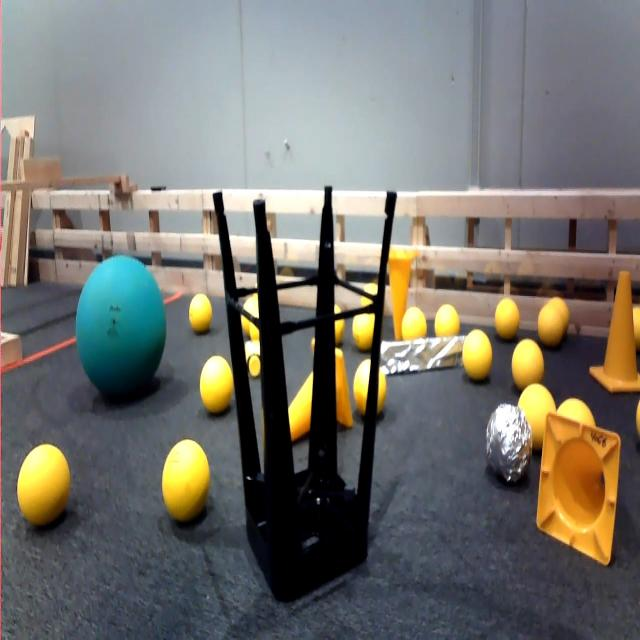fuel: (156, 418, 224, 533), (10, 430, 75, 540), (197, 350, 240, 424), (350, 352, 387, 431), (516, 378, 558, 441), (509, 328, 547, 396), (460, 325, 498, 382), (554, 388, 600, 432), (184, 284, 218, 340), (348, 296, 376, 355), (492, 291, 523, 341), (434, 295, 465, 339), (398, 294, 428, 339), (536, 306, 563, 351), (328, 302, 352, 348), (547, 288, 576, 324), (357, 273, 381, 314), (248, 301, 262, 339), (240, 295, 253, 333)
